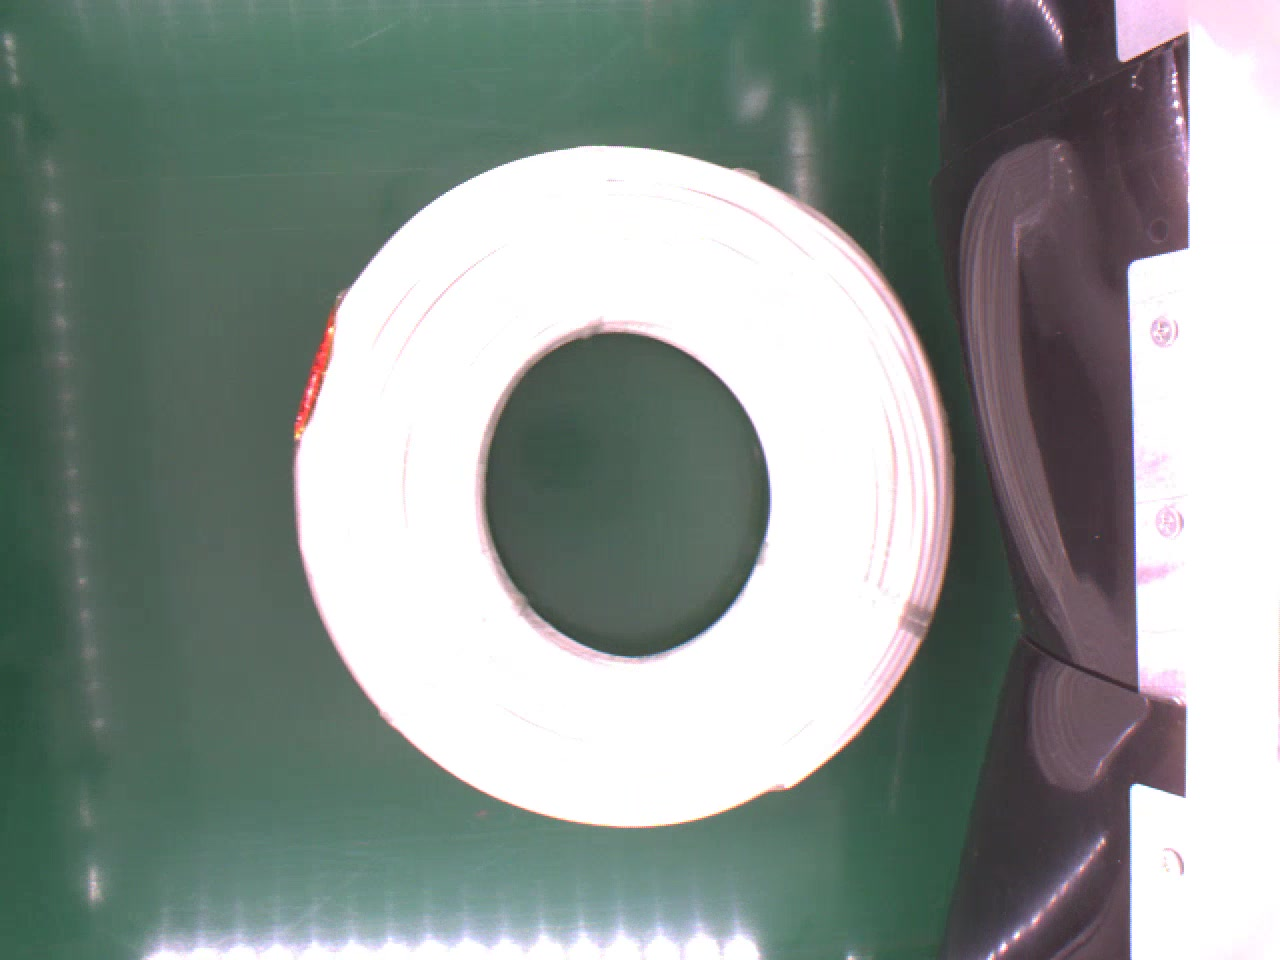white: (287, 134, 967, 829)
